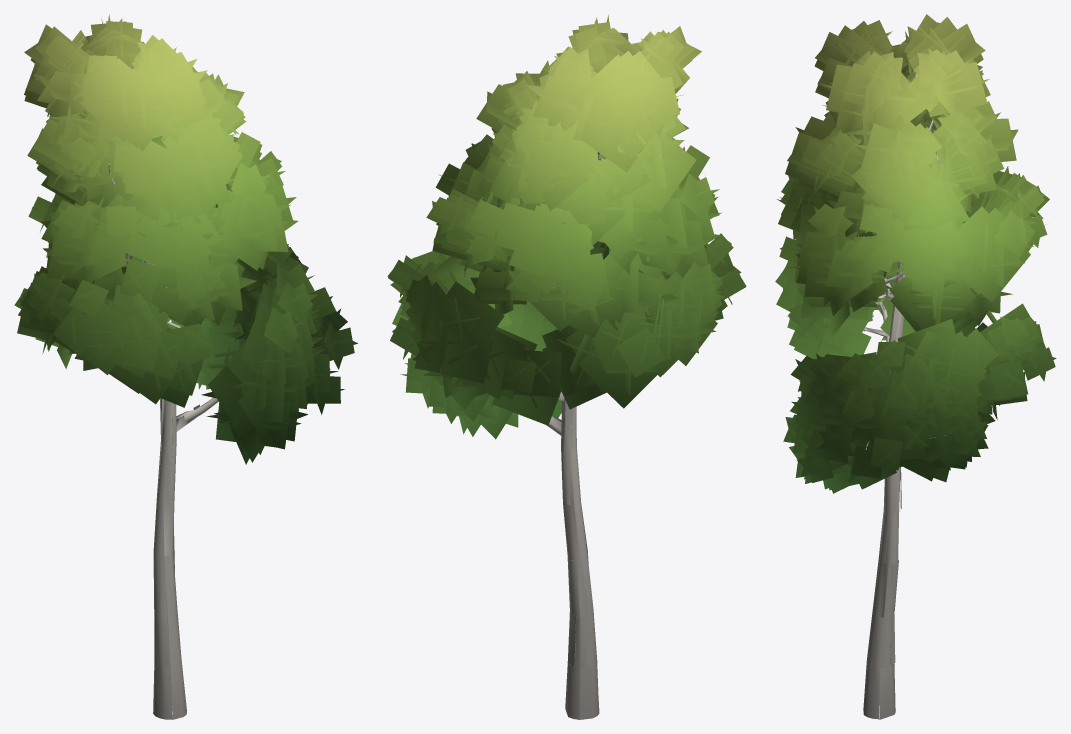
File: q_tree_birch.glb
The picture shows the model from 3 angles, left to right: view 1: azimuth 30°, elevation 25°; view 2: azimuth 150°, elevation 25°; view 3: azimuth 270°, elevation 25°; orthographic projection. The views are drawn at different scales.
Visible parts, largest first — view 1: Leaves, Trunk; view 2: Leaves, Trunk; view 3: Leaves, Trunk.
Part boxes in pixels (box(x1,y1,x2,y2)): Leaves: box(14, 14, 357, 464); Trunk: box(108, 65, 232, 719); Leaves: box(387, 14, 746, 439); Trunk: box(546, 152, 655, 719); Leaves: box(775, 14, 1056, 493); Trunk: box(848, 73, 987, 719).
Bounding box in the file's own units: 2.96 × 6 × 2.33.
